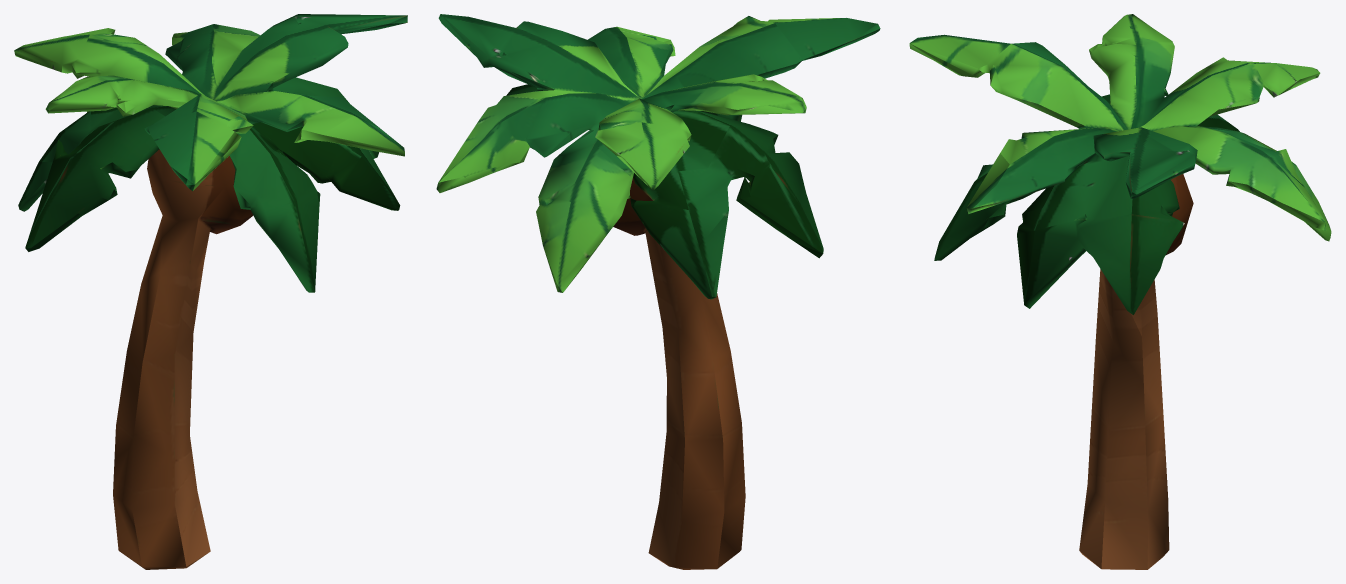
Rendered from palm-tree.glb.
The picture shows the model from 3 angles, left to right: view 1: azimuth 30°, elevation 25°; view 2: azimuth 150°, elevation 25°; view 3: azimuth 270°, elevation 25°; orthographic projection. The views are drawn at different scales.
Visible parts, largest first — view 1: geometry_0; view 2: geometry_0; view 3: geometry_0.
Boxes of the visible parts, x1=… form: geometry_0: x1=14, y1=14, x2=407, y2=569; geometry_0: x1=436, y1=14, x2=880, y2=569; geometry_0: x1=909, y1=14, x2=1331, y2=569.
Bounding box in the file's own units: 0.8147 × 1 × 0.7682.
Materials: 1 (1 with a texture image).
